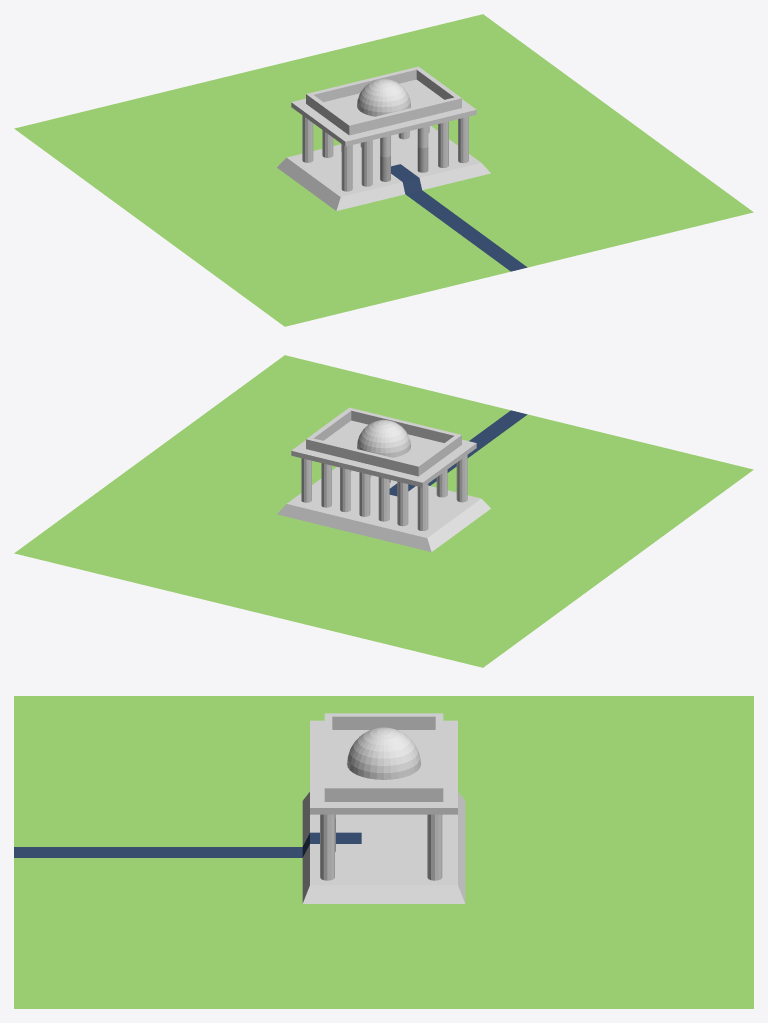
The model's file is cityhall.glb.
3 renders of one model, top to bottom at view 1: azimuth 30°, elevation 25°; view 2: azimuth 150°, elevation 25°; view 3: azimuth 270°, elevation 25°, orthographic. The views are drawn at different scales.
Visible parts, largest first — view 1: Cylinder.007; view 2: Cylinder.007; view 3: Cylinder.007.
Part boxes in pixels (x1,y1,x2,y2): Cylinder.007: (14, 14, 753, 326); Cylinder.007: (14, 355, 753, 667); Cylinder.007: (14, 696, 753, 1008).
Size of the model in its own units: 0.15 by 0.0272 by 0.15.
